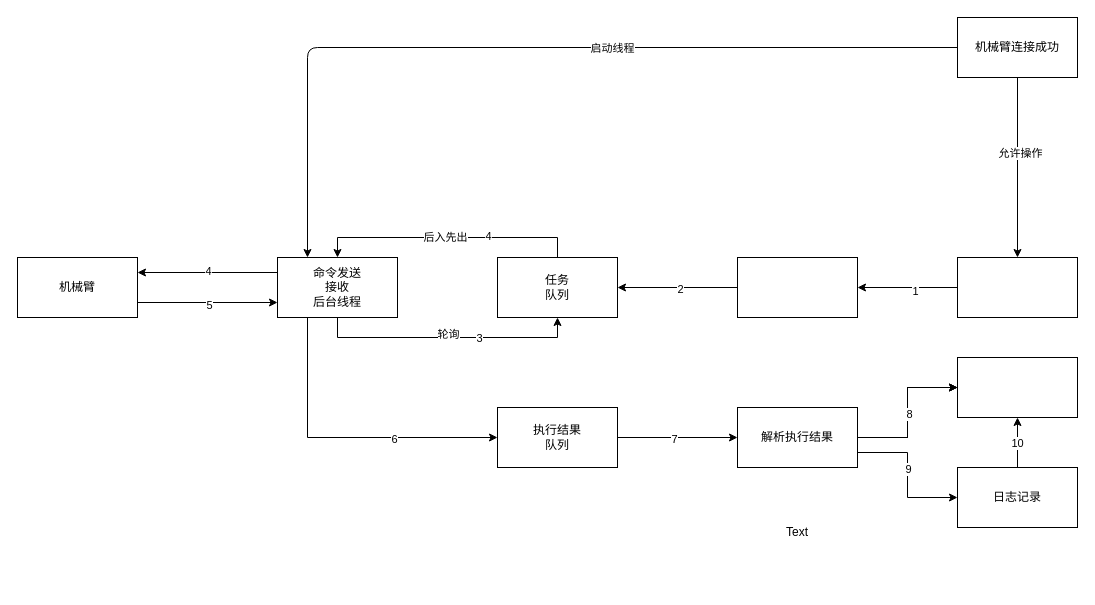
The diagram is 1095 pixels wide and 605 high, and some of its shapes have lost their labels. Each missing label, with the centre of its shape:
"构造命令" belongs at [797,287].
"界面信息更新 与展示" belongs at [1017,387].
"界面操作" belongs at [1017,287].
